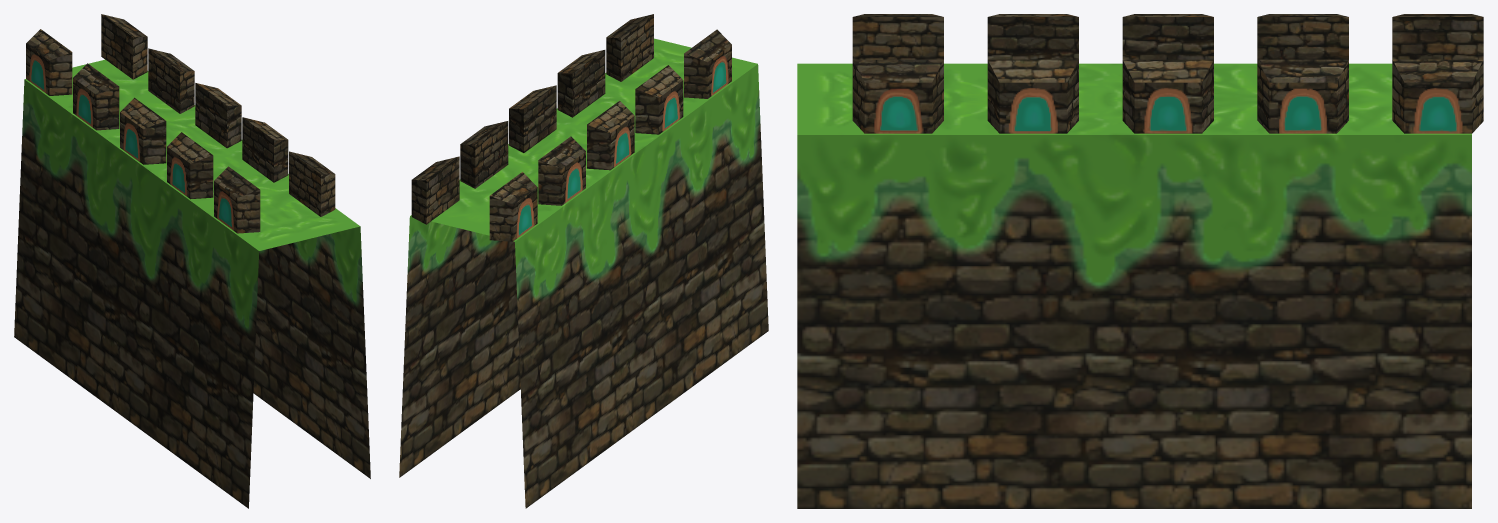
Rendered from 2lvl.FBX.
3 views of the same model, side by side, from view 1: azimuth 30°, elevation 25°; view 2: azimuth 150°, elevation 25°; view 3: azimuth 270°, elevation 25° (orthographic). The views are drawn at different scales.
Parts seen in each view (by area): view 1: 2lvl; view 2: 2lvl; view 3: 2lvl.
Part boxes in pixels (x1,y1,x2,y2): 2lvl: (14,14,370,508); 2lvl: (399,14,768,508); 2lvl: (797,14,1483,508).
Bounding box in the file's own units: 3 × 7 × 10.18.
Materials: 1 (1 with a texture image).
